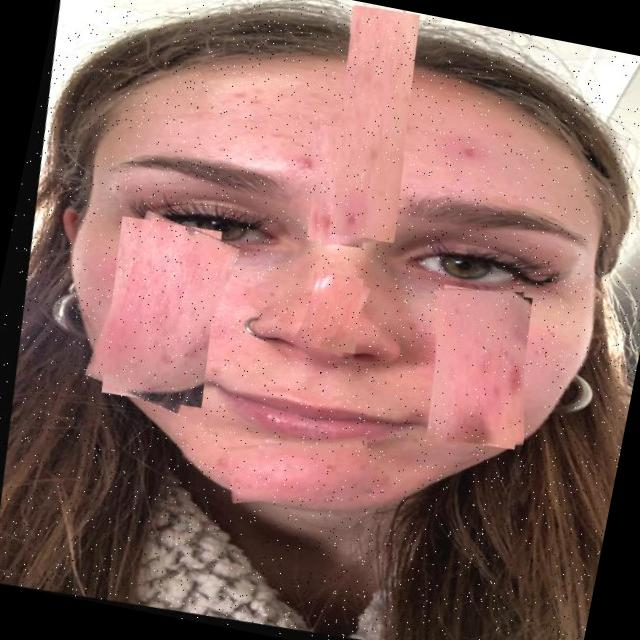redness: (78, 210, 236, 413), (325, 8, 417, 245), (428, 291, 519, 448), (219, 439, 365, 504), (305, 128, 371, 248), (291, 270, 365, 359)
